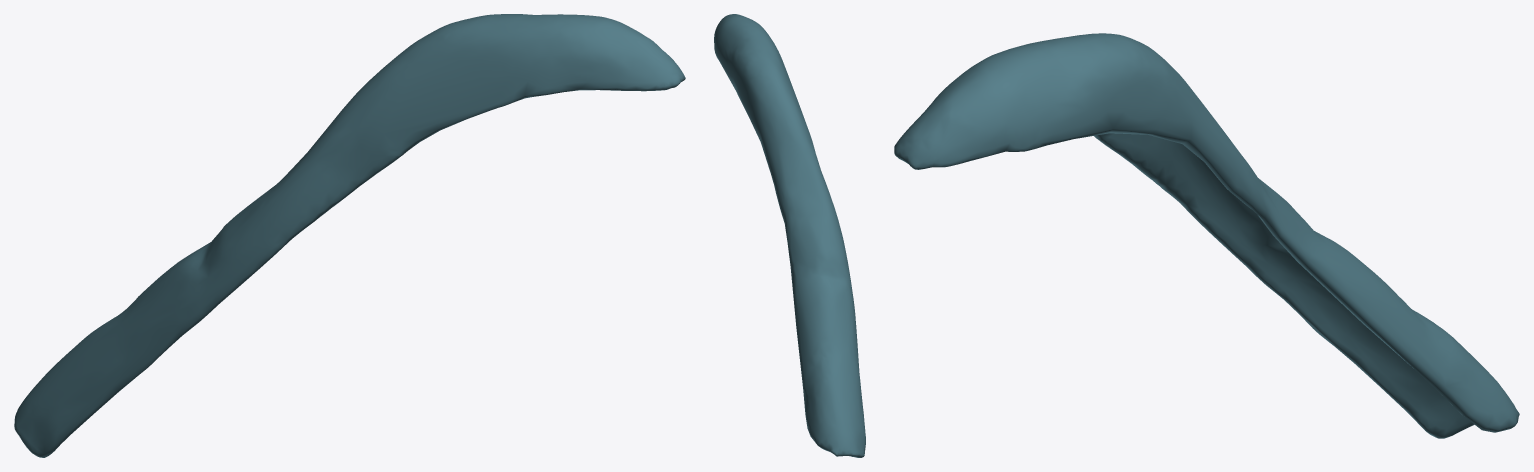
The model's file is Levator_scapulae-Scapular_insertion.l_Generated_Mesh_From_X3D.5.glb.
3 views of the same model, side by side, from view 1: azimuth 30°, elevation 25°; view 2: azimuth 150°, elevation 25°; view 3: azimuth 270°, elevation 25° (orthographic). The views are drawn at different scales.
Visible parts, largest first — view 1: Levator_scapulae-Scapular_insertion.l_Generated_Mesh_From_X3; view 2: Levator_scapulae-Scapular_insertion.l_Generated_Mesh_From_X3; view 3: Levator_scapulae-Scapular_insertion.l_Generated_Mesh_From_X3.
Boxes of the visible parts, x1,y1,x2,y2 form: Levator_scapulae-Scapular_insertion.l_Generated_Mesh_From_X3: [14, 14, 685, 457]; Levator_scapulae-Scapular_insertion.l_Generated_Mesh_From_X3: [714, 14, 865, 457]; Levator_scapulae-Scapular_insertion.l_Generated_Mesh_From_X3: [894, 33, 1519, 438].
Size of the model in its own units: 0.0224 by 0.0231 by 0.0219.
